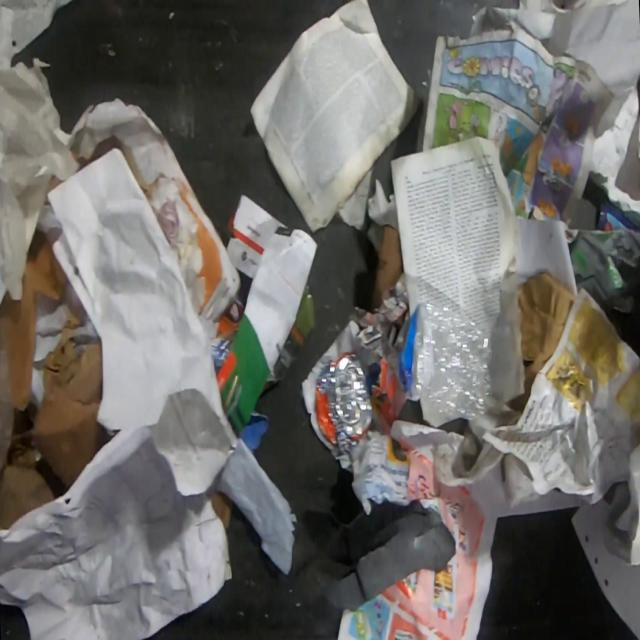cardboard: (0, 227, 72, 413), (32, 303, 102, 492), (502, 271, 578, 417), (0, 429, 56, 532), (372, 223, 404, 307)
metal: (313, 348, 373, 472)
rigid_plastic: (396, 300, 493, 421)
